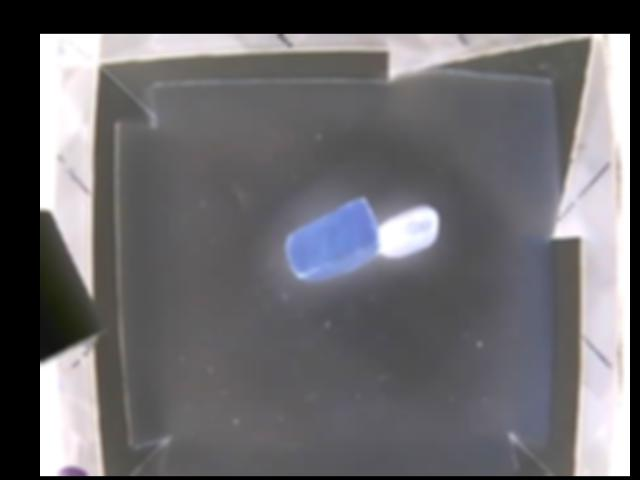Pebble: (377, 206, 440, 259)
Potato: (285, 197, 381, 278)
